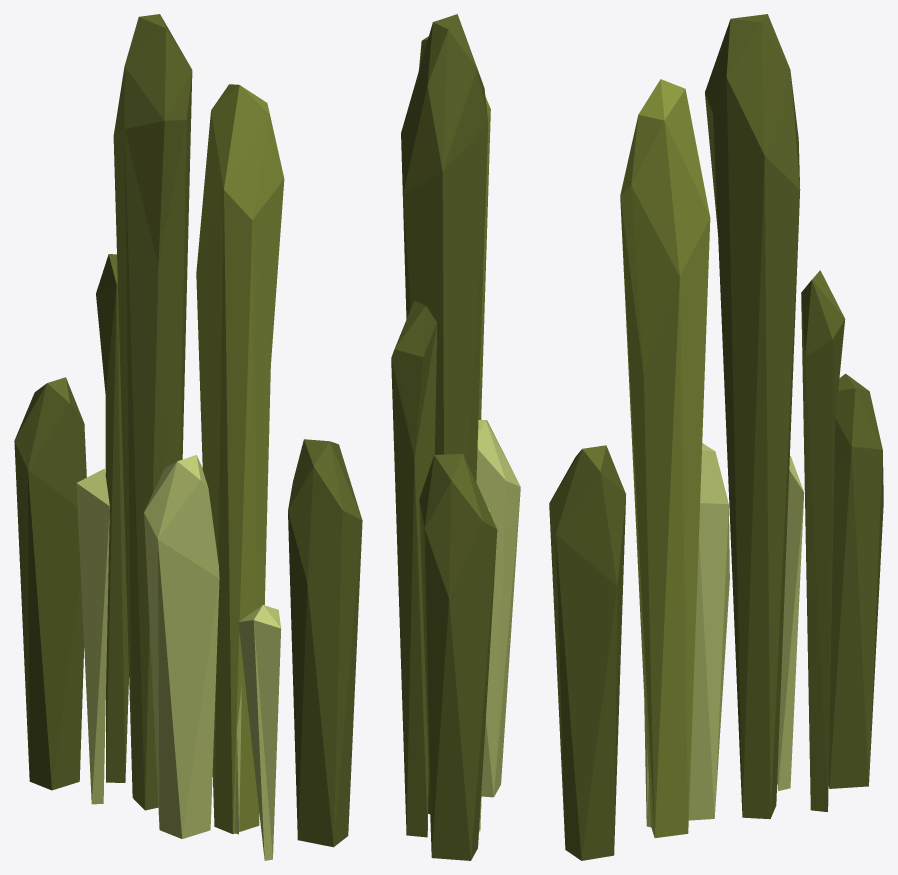
File: ea_swamp_grass_01e_pre__20__lev1.glb
3 views of the same model, side by side, from view 1: azimuth 30°, elevation 25°; view 2: azimuth 150°, elevation 25°; view 3: azimuth 270°, elevation 25° (orthographic).
Parts seen in each view (by area): view 1: ea_swamp_grass_01e_pre__20__lev1; view 2: ea_swamp_grass_01e_pre__20__lev1; view 3: ea_swamp_grass_01e_pre__20__lev1.
Part boxes in pixels (bbox=[...]): ea_swamp_grass_01e_pre__20__lev1: bbox=[14, 14, 362, 860]; ea_swamp_grass_01e_pre__20__lev1: bbox=[391, 14, 520, 860]; ea_swamp_grass_01e_pre__20__lev1: bbox=[549, 14, 883, 860].
Size of the model in its own units: 0.7334 by 2.69 by 1.02.
1 material, 1 textured.
